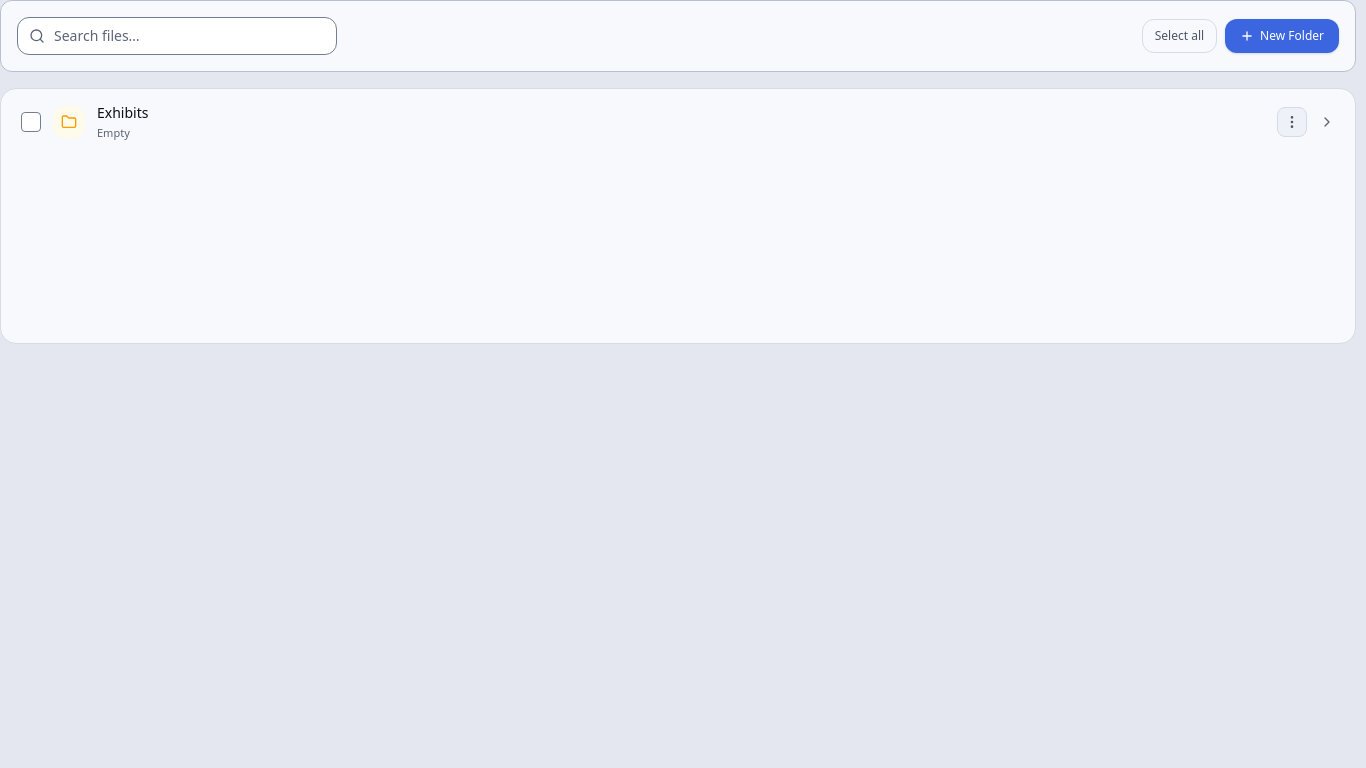
it: a search hit › found in a folder counts that folder, not the root, as its current location
Expected: the text "Exhibits" is shown, [97,103,148,123]
Type "hit" into the field with placeholder "Search files…" at (177, 36), box [17,17,337,55]
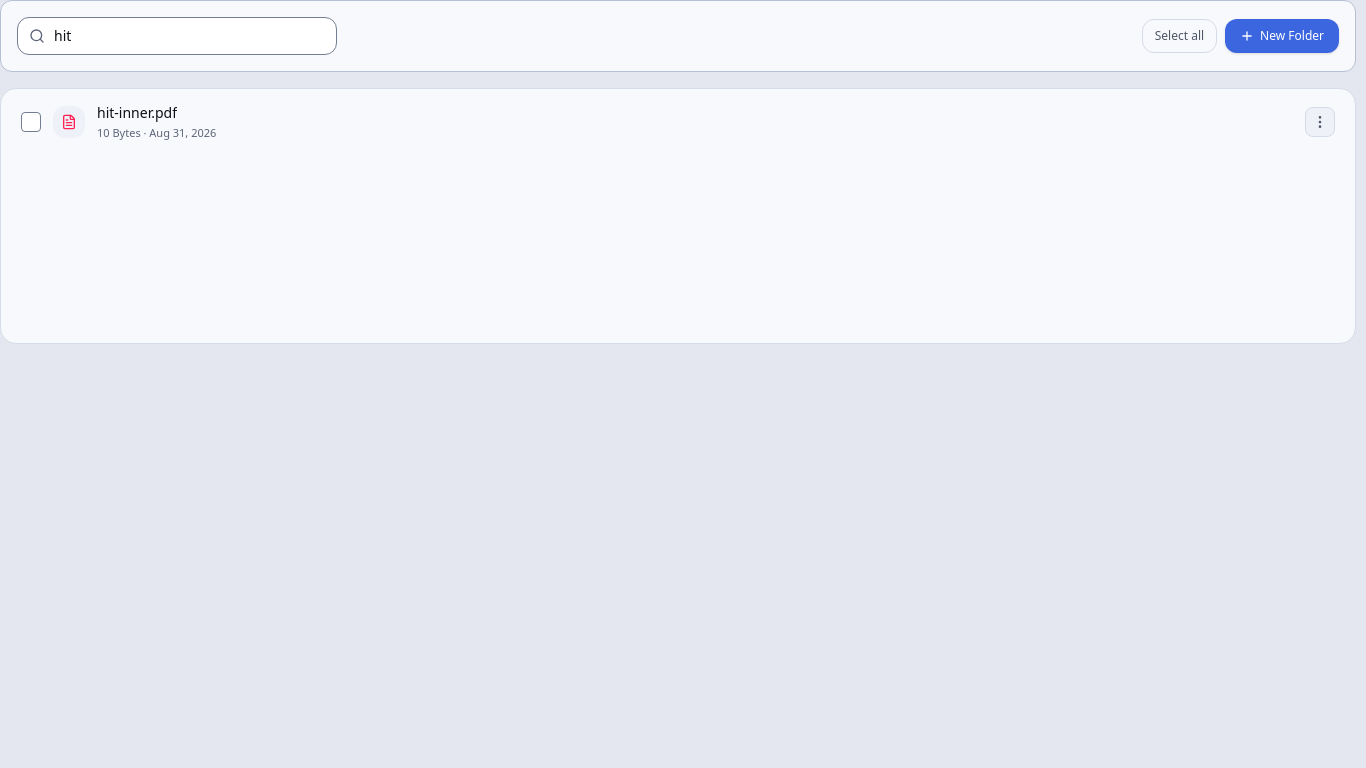
Now the text "hit-inner.pdf" is shown, box [97,103,177,123]
Click the button named "More actions" at (1320, 122), box [1305,107,1335,137]
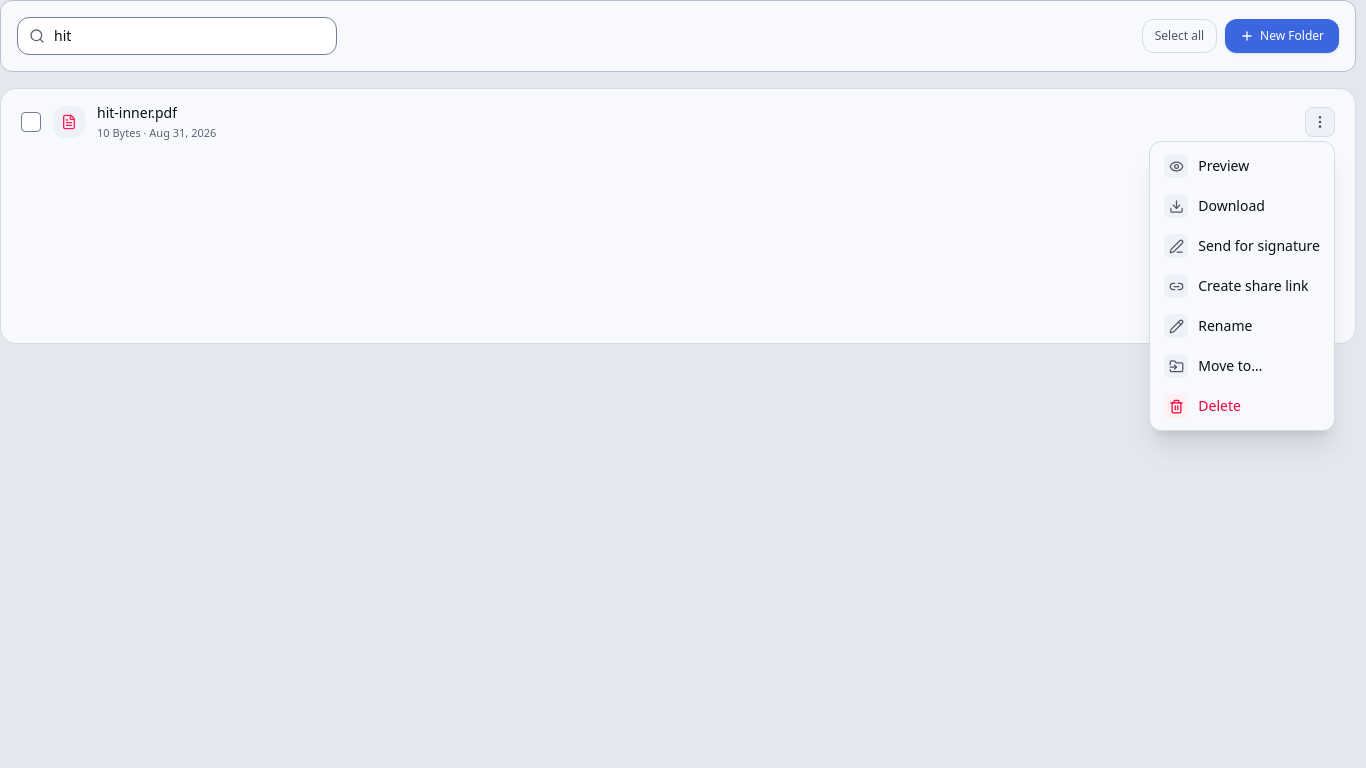
Click the button "Move to…" at (1242, 366), box [1154,346,1330,386]
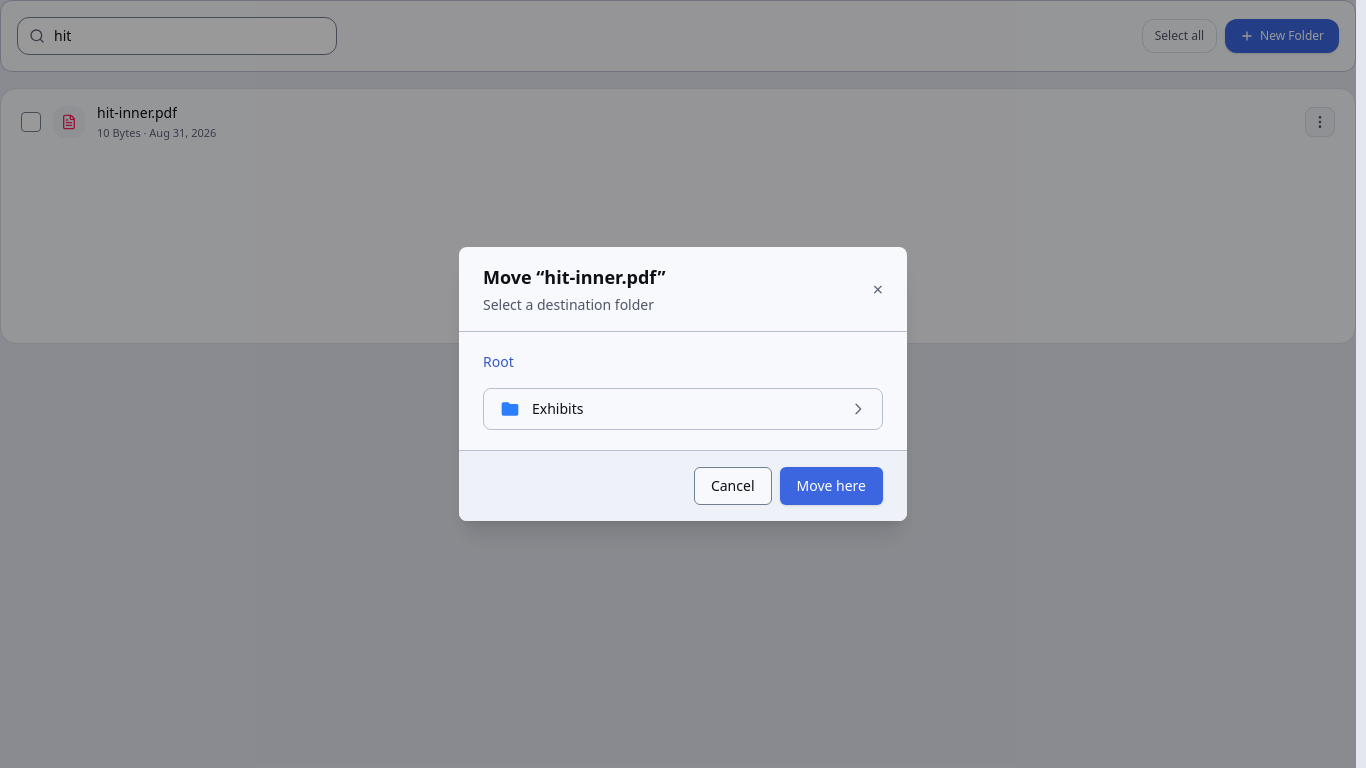
Click the button "Exhibits" at (558, 408), box [484,389,882,429]
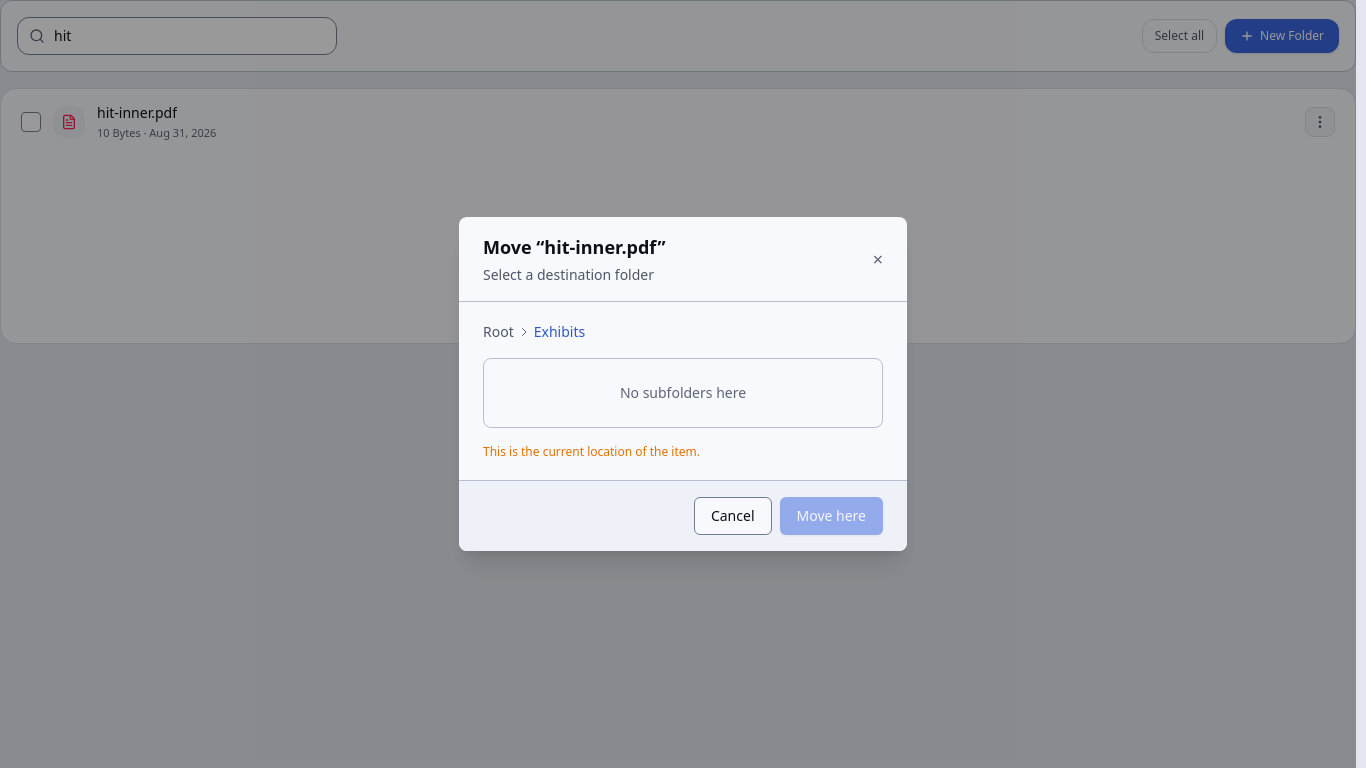
Now the text "No subfolders here" is shown, box [620,383,746,402]
Now the button "Move here" is disabled, box [780,497,883,535]
Click the button "Root" at (498, 332), box [483,322,514,342]
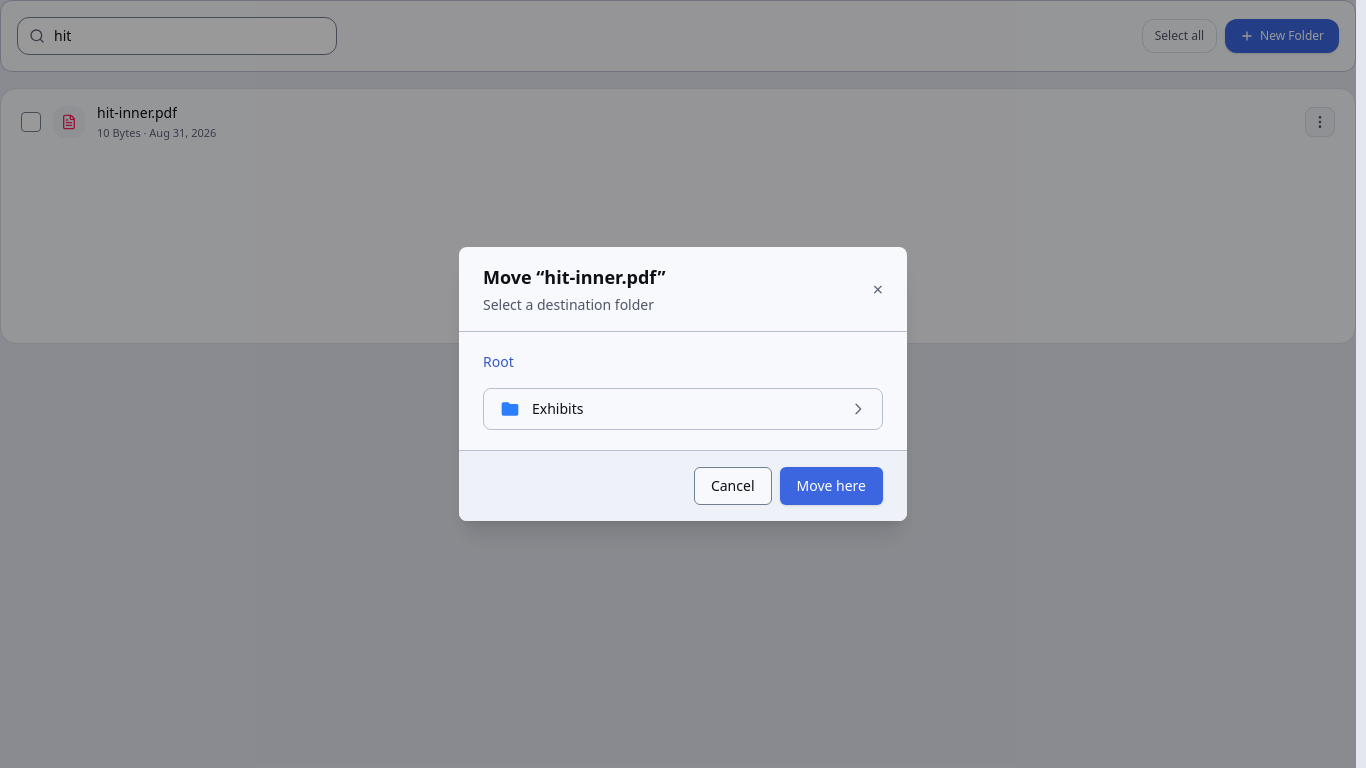
Now the button "Exhibits" is shown, box [484,389,882,429]
Now the button "Move here" is enabled, box [780,467,883,505]
